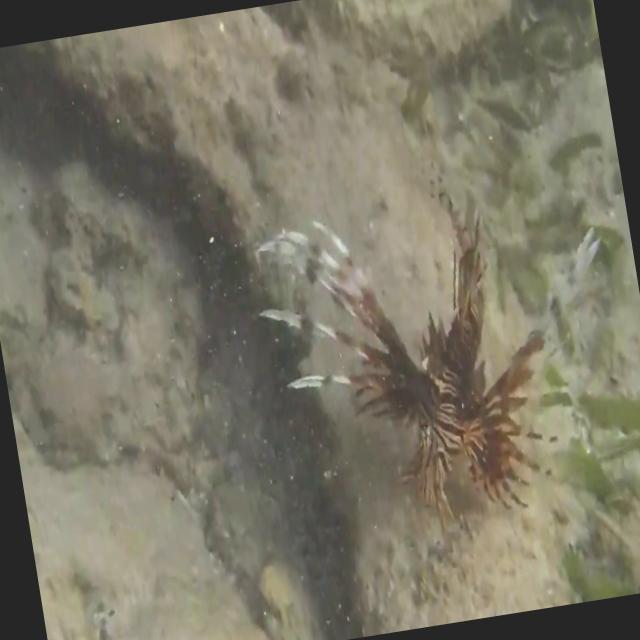Aslan Baligi: (242, 176, 572, 559)
